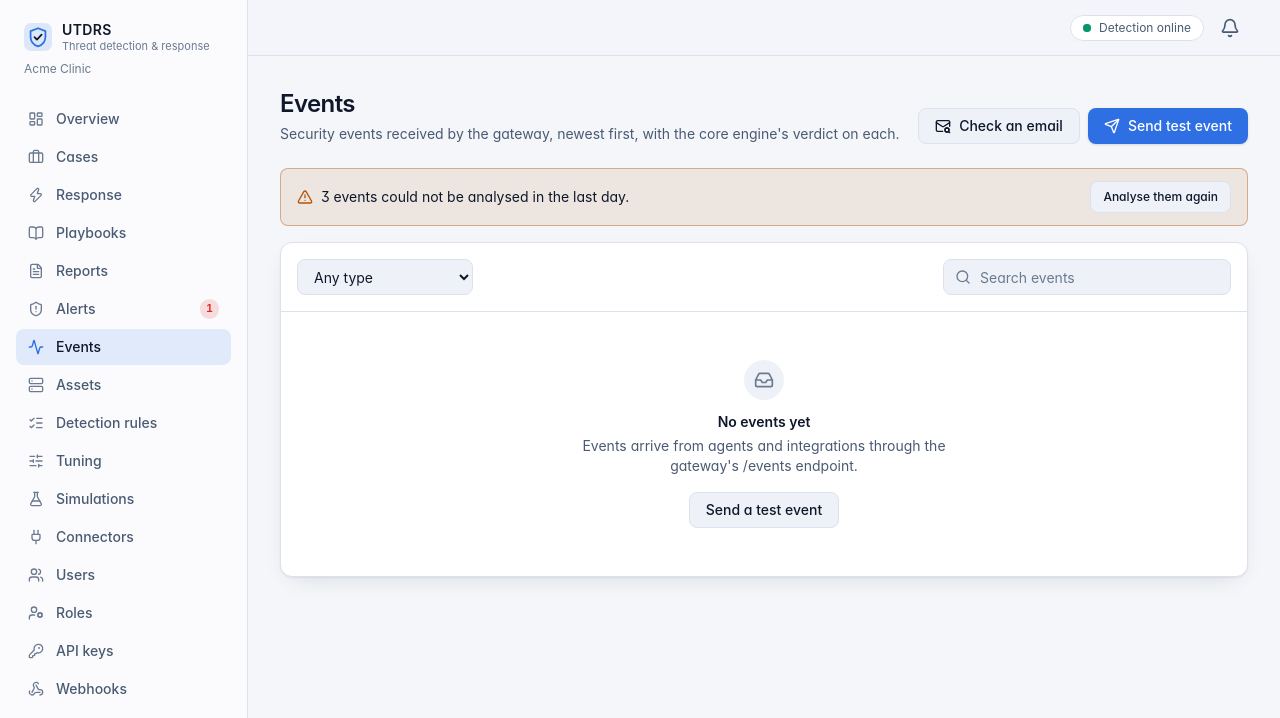
event verdicts › tells administrators about failed analyses and replays them
Expected: the text "3 events could not be analysed in the last day." is shown, x1=321 y1=187 x2=629 y2=207
Click the button "Analyse them again": x=1161, y=197 x1=1090 y1=181 x2=1231 y2=213
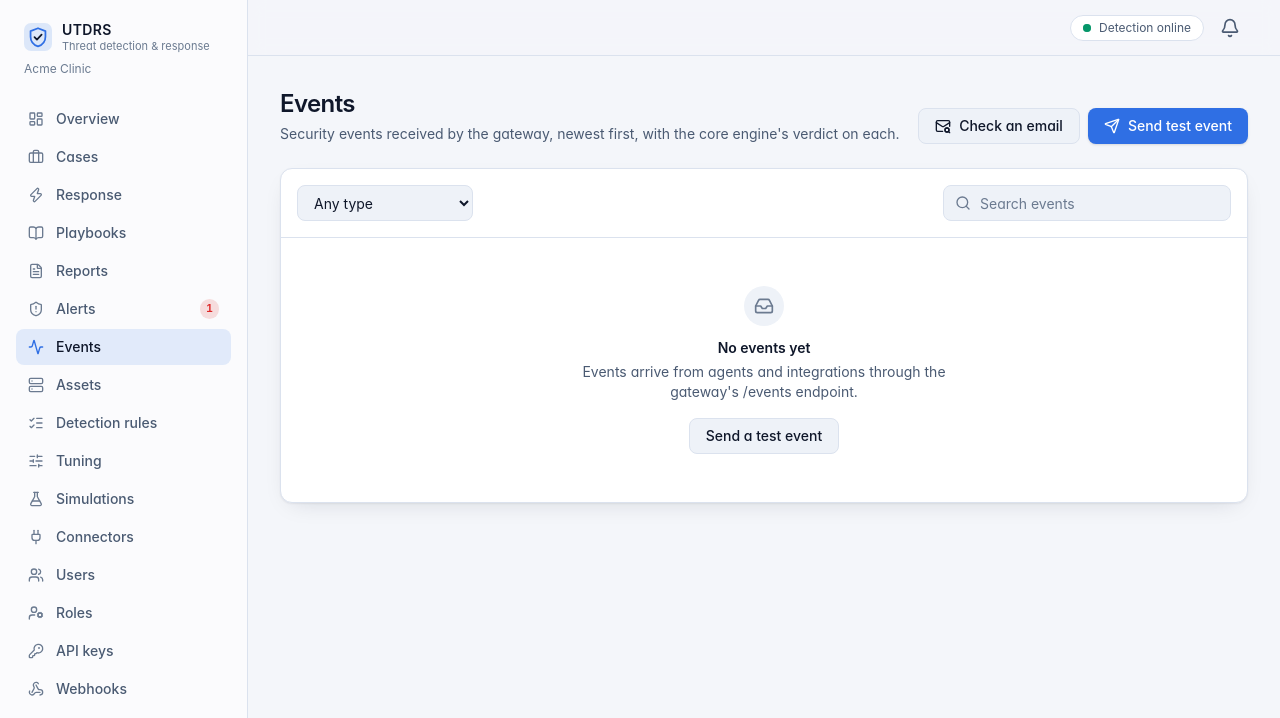
Expected: the text "could not be analysed" is gone
